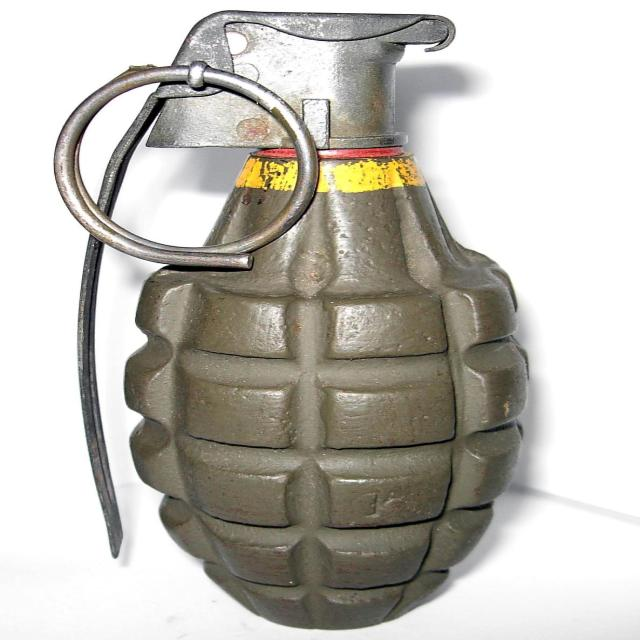grenade: (55, 11, 532, 633)
